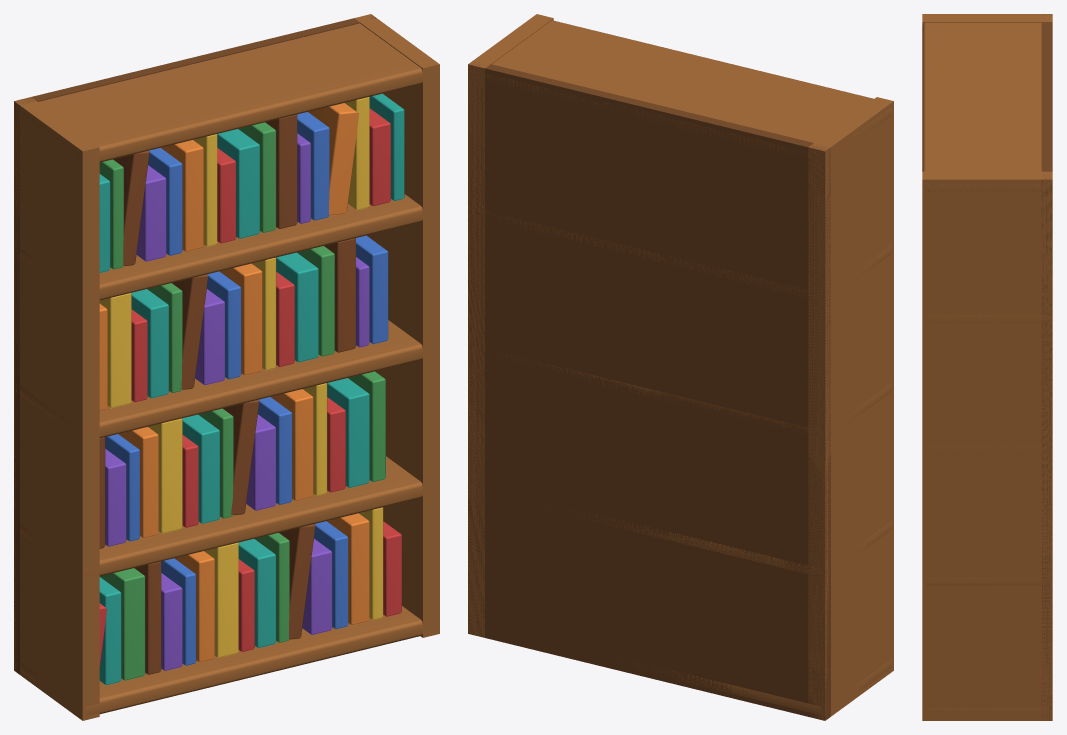
File: Bookshelf.fbx
3 views of the same model, side by side, from view 1: azimuth 30°, elevation 25°; view 2: azimuth 150°, elevation 25°; view 3: azimuth 270°, elevation 25° (orthographic). The views are drawn at different scales.
Visible parts, largest first — view 1: Bookshelf; view 2: Bookshelf; view 3: Bookshelf.
Part boxes in pixels (box(x1,y1,x2,y2)): Bookshelf: box(14, 14, 439, 720); Bookshelf: box(468, 14, 893, 720); Bookshelf: box(922, 14, 1052, 720).
Bounding box in the file's own units: 4.2 × 6.4 × 1.4.
Materials: 1 (1 with a texture image).
